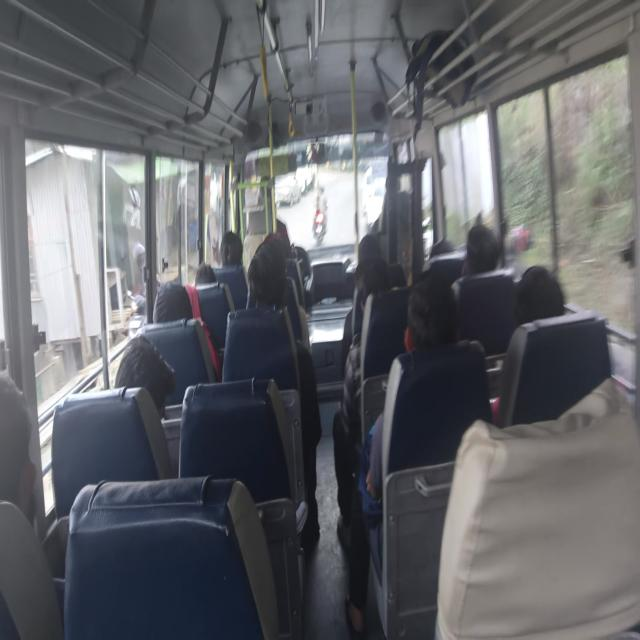person: (1, 365, 41, 518), (406, 268, 460, 359), (514, 256, 574, 334), (118, 331, 176, 408), (466, 217, 502, 282), (150, 283, 197, 330), (248, 250, 281, 310), (196, 250, 232, 300), (356, 244, 388, 300), (218, 224, 246, 278), (377, 167, 405, 200), (266, 220, 289, 260), (426, 234, 458, 262), (359, 226, 383, 262), (256, 165, 278, 204)
